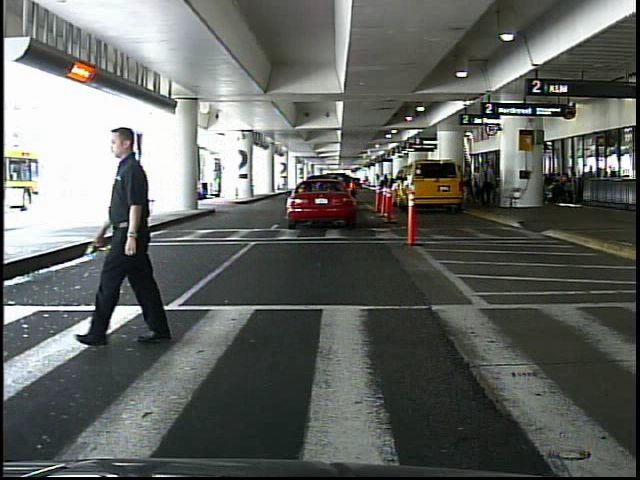person: (80, 125, 183, 352), (479, 163, 496, 209)
